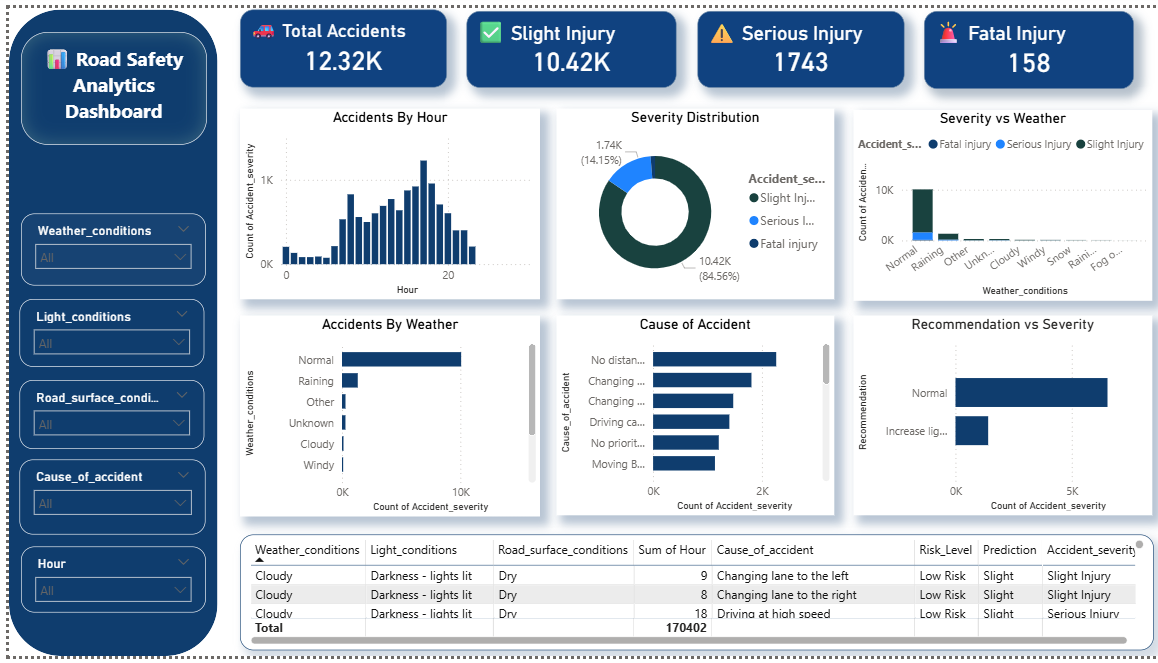

The page's visual inventory and layout, read from the dashboard file:
{"tool":"powerbi","page":{"name":"Dashboard2","canvas":[1280,720],"ordinal":4},"visuals":[{"type":"shape","box":[0,1.7,231.7,718.3],"z":0},{"type":"card","title":"🚗 Total Accidents","fields":{"Values":["CountNonNull(road_cleaned_data.Accident_severity)"]},"box":[256.7,1.7,230,86.7],"z":1000},{"type":"card","title":"✅ Slight Injury","fields":{"Values":["CountNonNull(road_cleaned_data.Accident_severity)"]},"box":[508.3,3.3,233.3,85],"z":2000},{"type":"card","title":"⚠️ Serious Injury","fields":{"Values":["CountNonNull(road_cleaned_data.Accident_severity)"]},"box":[765,3.3,230,85],"z":3000},{"type":"card","title":"🚨 Fatal Injury","fields":{"Values":["CountNonNull(road_cleaned_data.Accident_severity)"]},"box":[1016.7,3.3,233.3,86.7],"z":4000},{"type":"clusteredColumnChart","title":"Accidents By Hour","fields":{"Category":["road_cleaned_data.Hour"],"Y":["CountNonNull(road_cleaned_data.Accident_severity)"]},"box":[256.7,111.7,333.3,211.7],"z":5000},{"type":"clusteredBarChart","title":"Accidents By Weather","fields":{"Y":["CountNonNull(road_cleaned_data.Accident_severity)"],"Category":["road_cleaned_data.Weather_conditions"]},"box":[256.7,341.7,333.3,223.3],"z":6000},{"type":"donutChart","title":"Severity Distribution","fields":{"Category":["road_cleaned_data.Accident_severity"],"Y":["CountNonNull(road_cleaned_data.Accident_severity)"]},"box":[608.3,111.7,308.3,211.7],"z":7000},{"type":"clusteredBarChart","title":"Cause of Accident","fields":{"Y":["CountNonNull(road_cleaned_data.Accident_severity)"],"Category":["road_cleaned_data.Cause_of_accident"]},"box":[608.3,341.7,308.3,221.7],"z":8000},{"type":"columnChart","title":"Severity vs Weather","fields":{"Category":["road_cleaned_data.Weather_conditions"],"Y":["CountNonNull(road_cleaned_data.Accident_severity)"],"Series":["road_cleaned_data.Accident_severity"]},"box":[938.3,113.3,331.7,211.7],"z":9000},{"type":"tableEx","fields":{"Values":["road_cleaned_data.Weather_conditions","road_cleaned_data.Light_conditions","road_cleaned_data.Road_surface_conditions","Sum(road_cleaned_data.Hour)","road_cleaned_data.Cause_of_accident","road_cleaned_data.Risk_Level","road_cleaned_data.Prediction","road_cleaned_data.Accident_severity"]},"box":[256.7,585,1015,128.3],"z":11000},{"type":"slicer","fields":{"Values":["road_cleaned_data.Weather_conditions"]},"box":[13.3,228.3,205,80],"z":12000},{"type":"slicer","fields":{"Values":["road_cleaned_data.Light_conditions"]},"box":[11.7,323.3,205,75],"z":13000},{"type":"slicer","fields":{"Values":["road_cleaned_data.Road_surface_conditions"]},"box":[11.7,413.3,205,76.7],"z":14000},{"type":"slicer","fields":{"Values":["road_cleaned_data.Cause_of_accident"]},"box":[11.7,501.7,206.7,83.3],"z":15000},{"type":"slicer","fields":{"Values":["road_cleaned_data.Hour"]},"box":[13.3,598.3,205,73.3],"z":16000},{"type":"textbox","box":[13.3,26.7,206.7,125],"z":17000},{"type":"barChart","title":"Recommendation vs Severity","fields":{"Category":["final_dashboard_data.Recommendation"],"Y":["CountNonNull(final_dashboard_data.Accident_severity)"]},"box":[938.3,341.7,331.7,221.7],"z":17001}]}

Visuals, with their boxes in screenshot pixels (x1, y1, x2, y2), scaled from the page's 1280x720 canvas onto the 1158x663 screenshot:
shape: detection(0, 2, 210, 662)
"🚗 Total Accidents" card: detection(232, 2, 440, 81)
"✅ Slight Injury" card: detection(460, 3, 671, 81)
"⚠️ Serious Injury" card: detection(692, 3, 900, 81)
"🚨 Fatal Injury" card: detection(920, 3, 1131, 83)
"Accidents By Hour" clusteredColumnChart: detection(232, 103, 534, 298)
"Accidents By Weather" clusteredBarChart: detection(232, 315, 534, 520)
"Severity Distribution" donutChart: detection(550, 103, 829, 298)
"Cause of Accident" clusteredBarChart: detection(550, 315, 829, 519)
"Severity vs Weather" columnChart: detection(849, 104, 1149, 299)
tableEx - road_cleaned_data.Weather_conditions x road_cleaned_data.Light_conditions: detection(232, 539, 1150, 657)
slicer - road_cleaned_data.Weather_conditions: detection(12, 210, 197, 284)
slicer - road_cleaned_data.Light_conditions: detection(11, 298, 196, 367)
slicer - road_cleaned_data.Road_surface_conditions: detection(11, 381, 196, 451)
slicer - road_cleaned_data.Cause_of_accident: detection(11, 462, 198, 539)
slicer - road_cleaned_data.Hour: detection(12, 551, 197, 618)
textbox: detection(12, 25, 199, 140)
"Recommendation vs Severity" barChart: detection(849, 315, 1149, 519)
